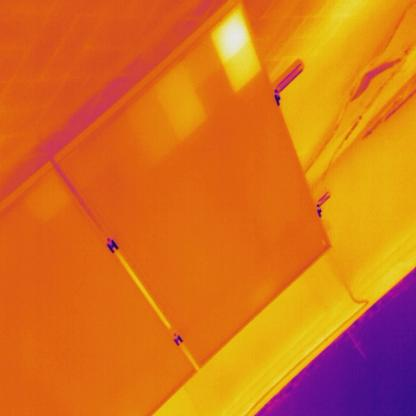hotspot: (206, 8, 262, 94), (116, 93, 182, 165), (154, 63, 209, 143)
